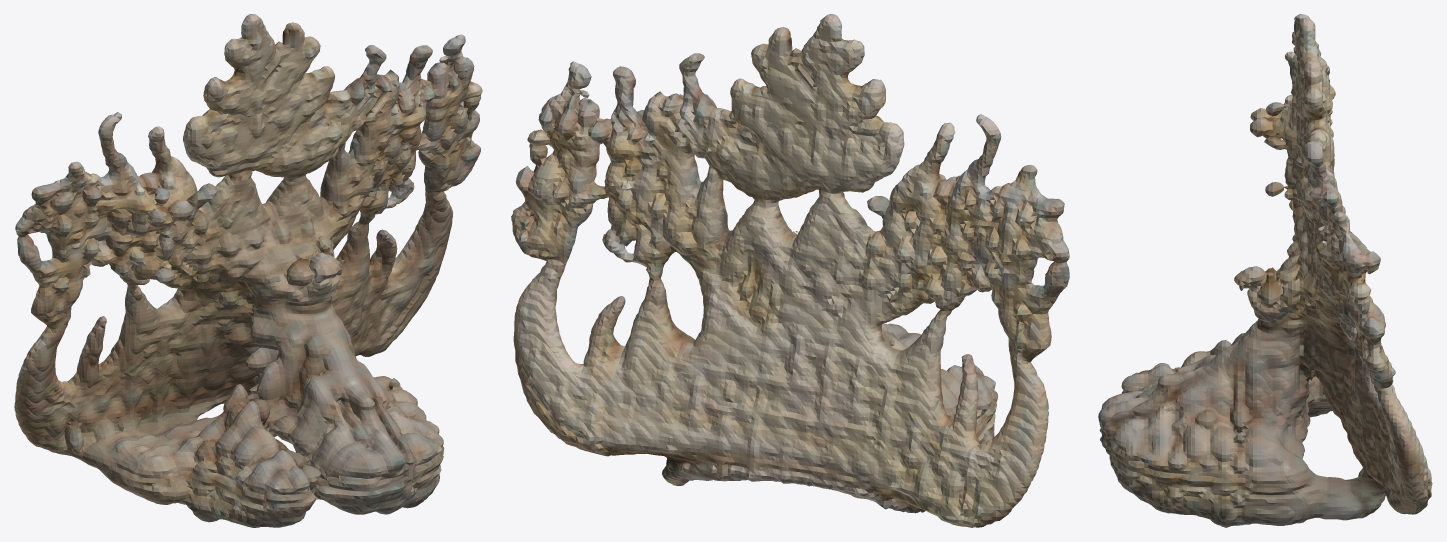
Rendered from lampung.glb.
The picture shows the model from 3 angles, left to right: view 1: azimuth 30°, elevation 25°; view 2: azimuth 150°, elevation 25°; view 3: azimuth 270°, elevation 25°; orthographic projection. The views are drawn at different scales.
Visible parts, largest first — view 1: world; view 2: world; view 3: world.
Part boxes in pixels (x1,y1,x2,y2): world: (14, 14, 482, 527); world: (511, 14, 1069, 527); world: (1098, 14, 1432, 527).
Bounding box in the file's own units: 0.984 × 0.8723 × 0.5867.
